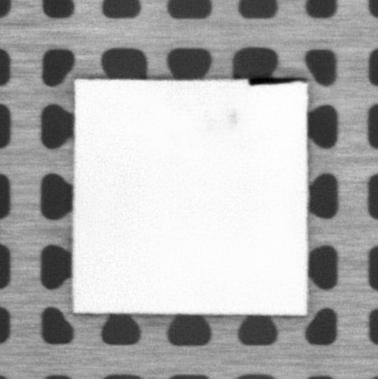DIE_BROKEN: (248, 74, 304, 87)
